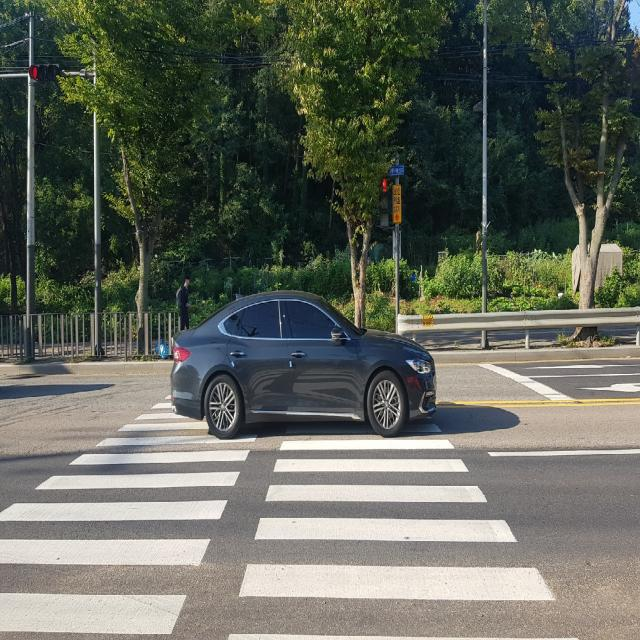빨간불: (379, 177, 389, 228)
횡단보도: (0, 390, 560, 639)
